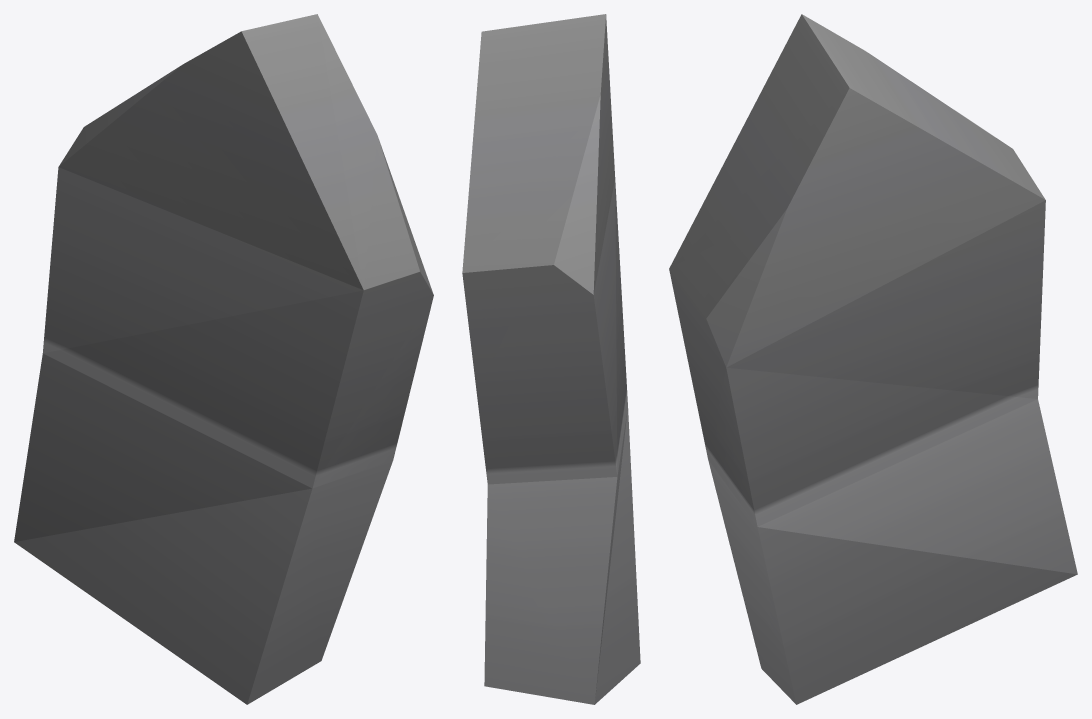
The model's file is ea_grave_stone_mini_01c_pre__26__lev1.glb.
3 views of the same model, side by side, from view 1: azimuth 30°, elevation 25°; view 2: azimuth 150°, elevation 25°; view 3: azimuth 270°, elevation 25° (orthographic).
Visible parts, largest first — view 1: ea_grave_stone_mini_01c_pre__26__lev1; view 2: ea_grave_stone_mini_01c_pre__26__lev1; view 3: ea_grave_stone_mini_01c_pre__26__lev1.
Boxes of the visible parts, <box> form: ea_grave_stone_mini_01c_pre__26__lev1: <box>14,14,433,704</box>; ea_grave_stone_mini_01c_pre__26__lev1: <box>462,14,640,704</box>; ea_grave_stone_mini_01c_pre__26__lev1: <box>669,14,1077,704</box>.
Bounding box in the file's own units: 0.6749 × 1.61 × 0.8996.
Materials: 1 (1 with a texture image).
